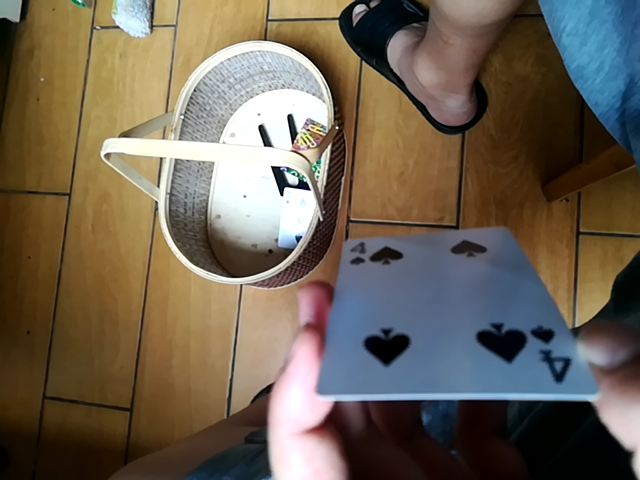ht 4: (327, 224, 590, 403)
